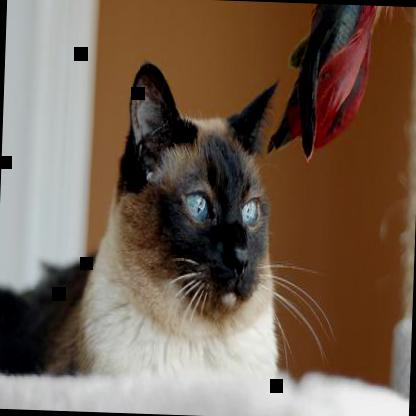cat: (0, 55, 285, 389)
